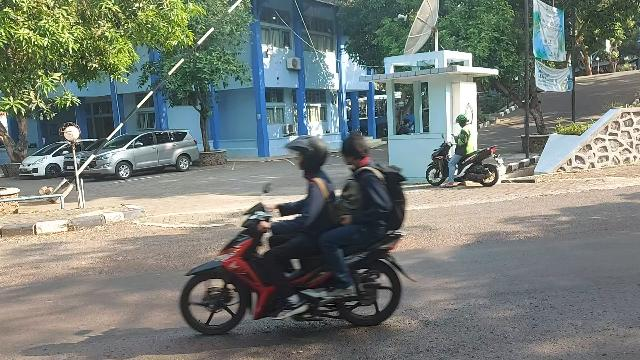helm: (286, 137, 329, 172), (455, 115, 471, 128)
motor: (181, 185, 418, 336), (427, 135, 506, 188)
non-helm: (343, 135, 369, 166)
